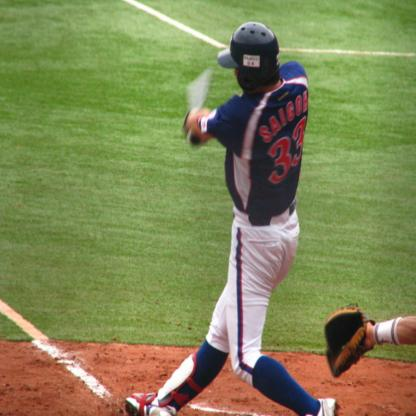Helmet: (214, 19, 283, 85)
